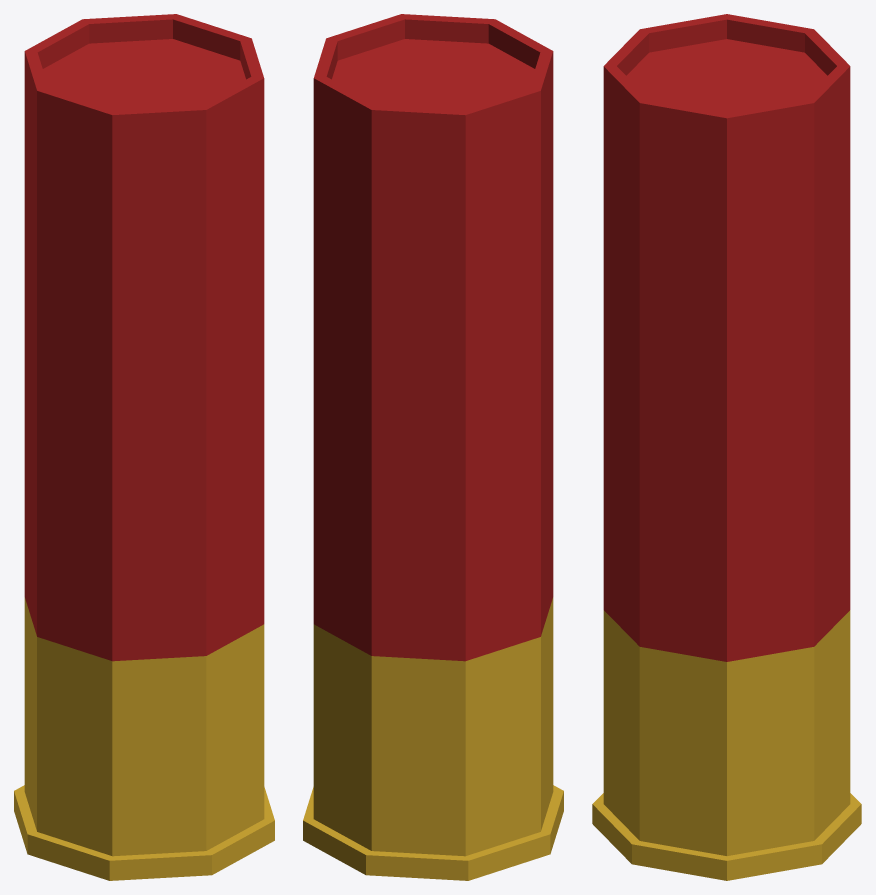
File: 12 Gauge.glb
3 renders of one model, left to right at view 1: azimuth 30°, elevation 25°; view 2: azimuth 150°, elevation 25°; view 3: azimuth 270°, elevation 25°, orthographic.
Parts seen in each view (by area): view 1: 12 Gauge; view 2: 12 Gauge; view 3: 12 Gauge.
Boxes of the visible parts, bbox=[...] form: 12 Gauge: bbox=[14, 14, 274, 880]; 12 Gauge: bbox=[303, 14, 563, 880]; 12 Gauge: bbox=[592, 14, 861, 880].
Bounding box in the file's own units: 0.0225 × 0.0698 × 0.0225.
Materials: 1 (1 with a texture image).
